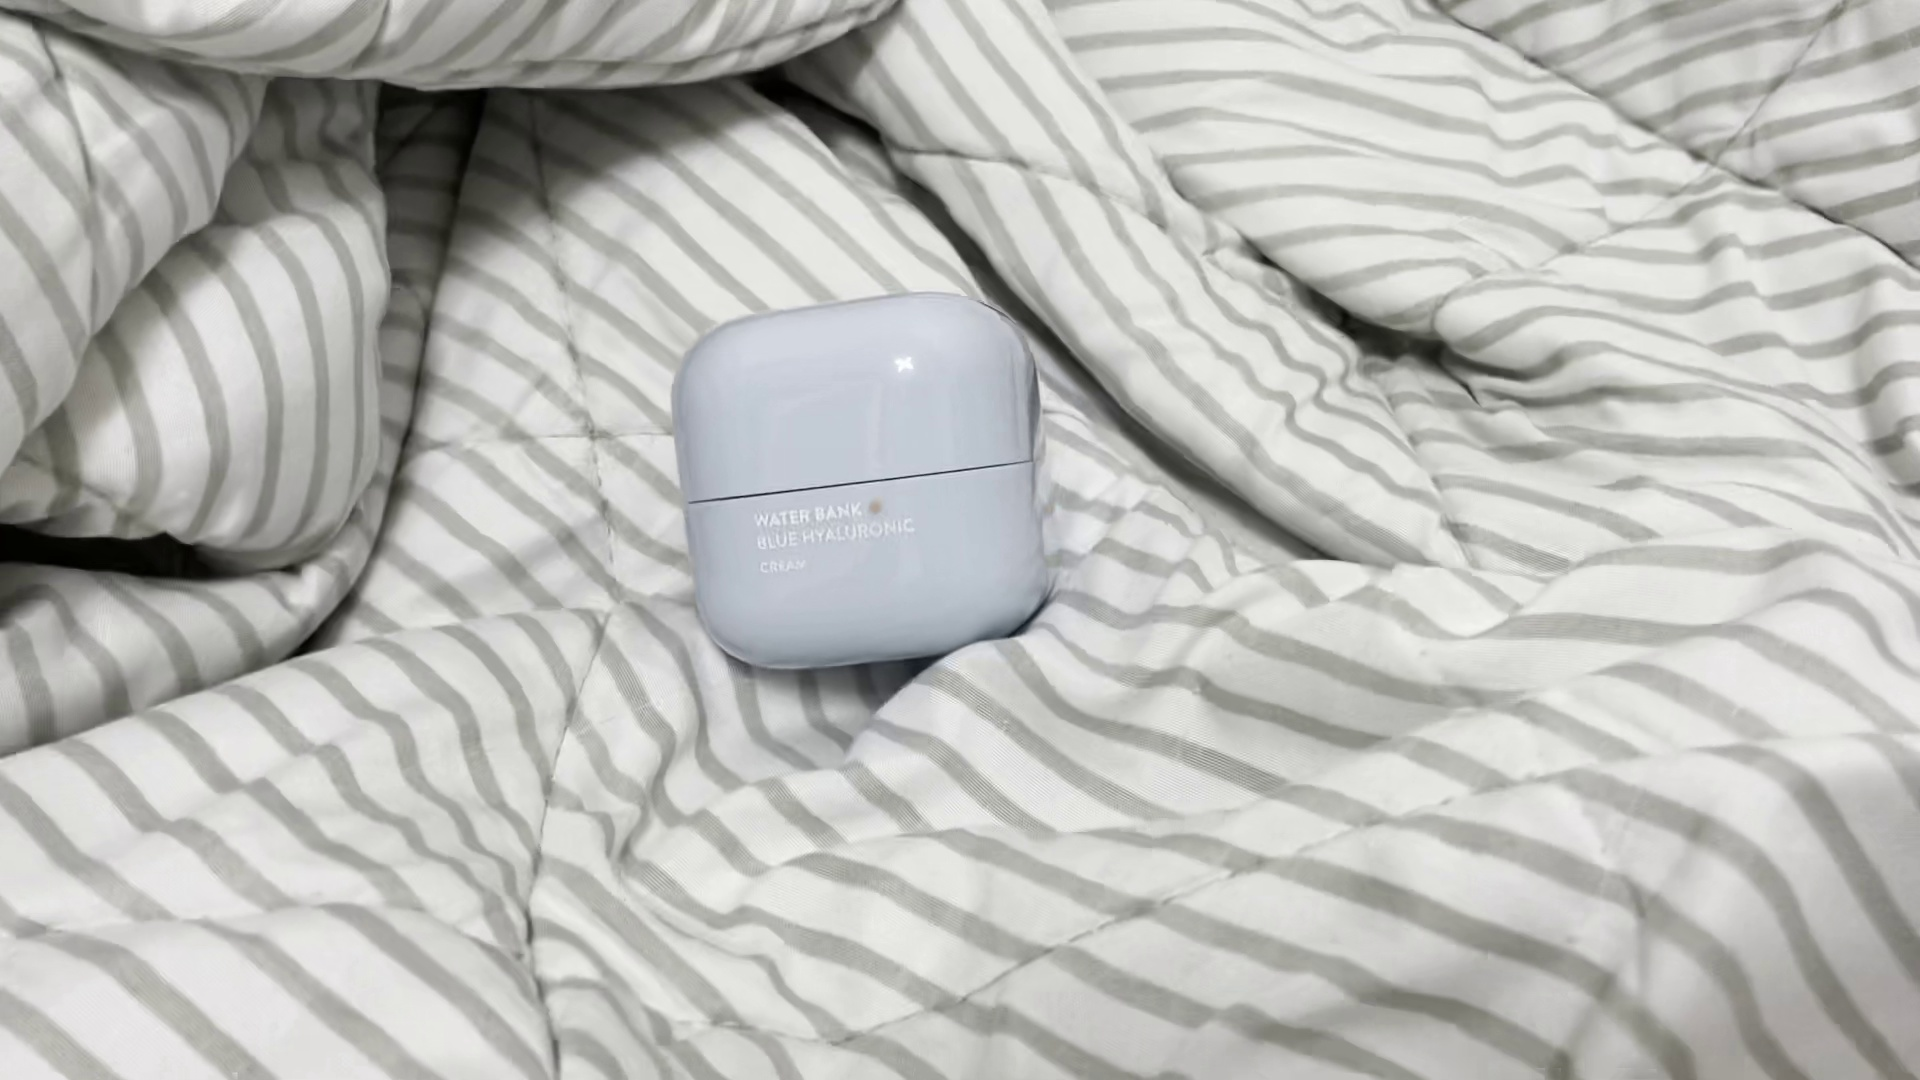cream: (675, 290, 1062, 673)
